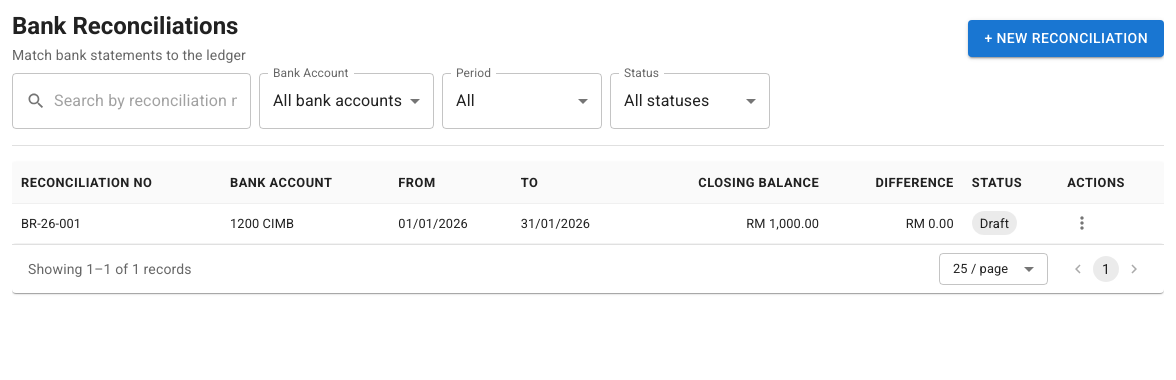
it: BankReconciliationsPage › row menu follows availableActions and never offers Complete
Step 1. Click the button named "row actions" → (1082, 223), box [1067,208,1097,238]
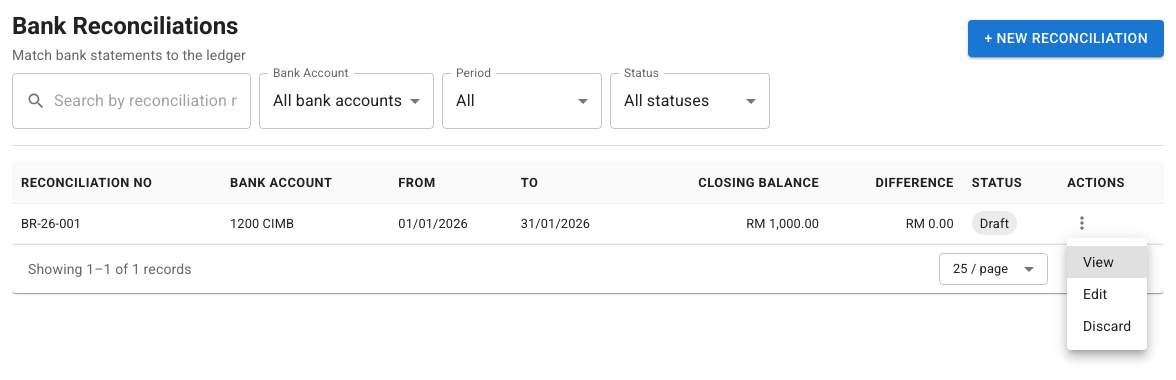
Now the menu items read "View", "Edit", "Discard", in this order, box [1067,246,1147,278]; [1083,286,1107,302]; [1083,318,1131,334]
